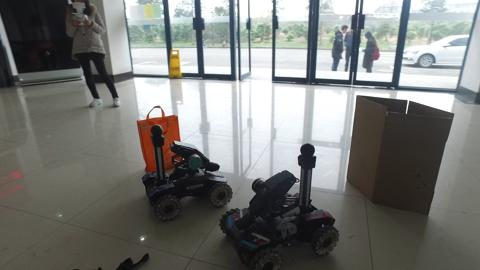box: (350, 90, 449, 218)
chariot: (218, 141, 348, 268), (138, 124, 234, 221)
